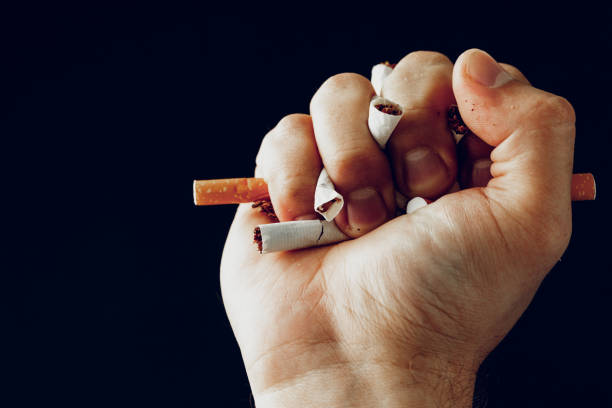cigarette: (250, 218, 352, 256), (189, 177, 270, 208), (365, 97, 405, 150), (311, 166, 346, 223), (370, 60, 398, 98), (447, 105, 469, 147), (570, 172, 598, 201), (405, 195, 435, 215)
